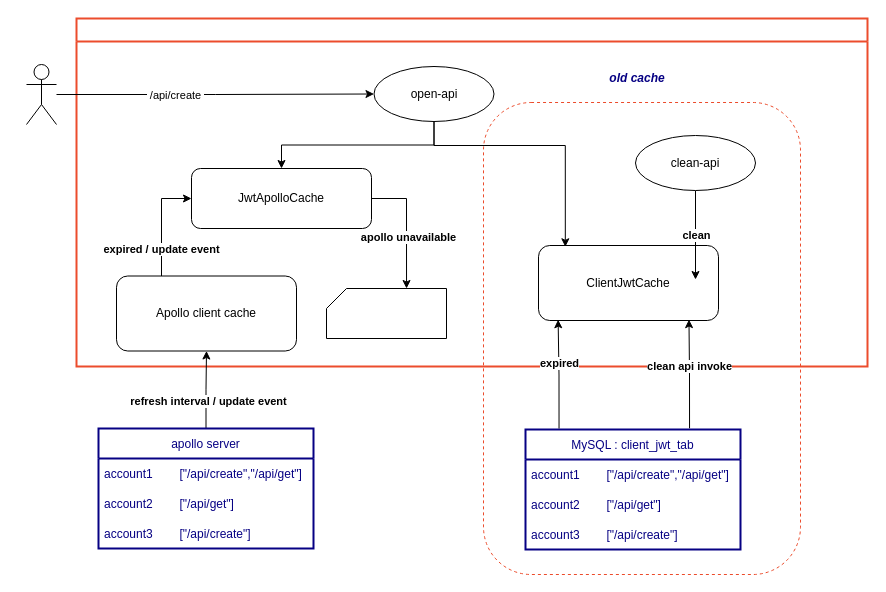
Image size: 886x592. Some labels were removed from this diagram. Here are the shapes that lost their labels. From the top down, the box of each, then its label:
(26, 64, 56, 124): account3
(75, 17, 868, 367): wms-v2
(326, 288, 446, 338): chassis.yaml
